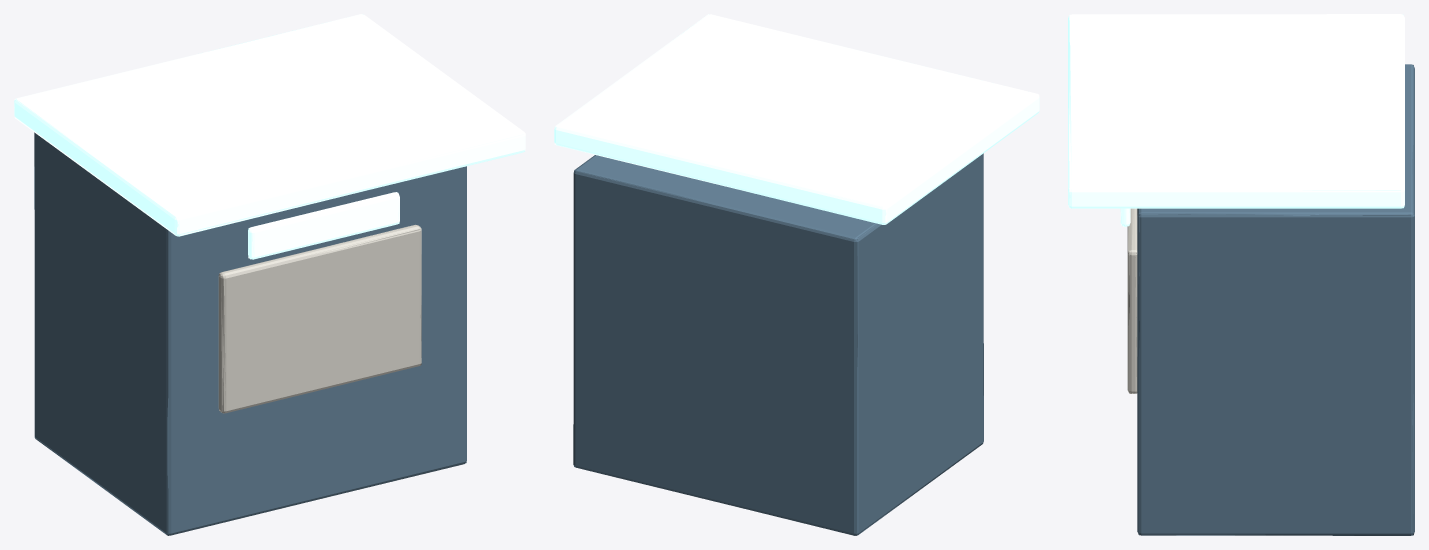
File: SM_Rheinufer_Kiosk.fbx
The picture shows the model from 3 angles, left to right: view 1: azimuth 30°, elevation 25°; view 2: azimuth 150°, elevation 25°; view 3: azimuth 270°, elevation 25°; orthographic projection. The views are drawn at different scales.
Visible parts, largest first — view 1: LOD0_SM_Rheinufer_Kiosk, LOD1_SM_Rheinufer_Kiosk; view 2: LOD0_SM_Rheinufer_Kiosk, LOD1_SM_Rheinufer_Kiosk; view 3: LOD0_SM_Rheinufer_Kiosk, LOD1_SM_Rheinufer_Kiosk, LOD2_SM_Rheinufer_Kiosk.
Part boxes in pixels (bbox=[...]): LOD0_SM_Rheinufer_Kiosk: bbox=[14, 14, 525, 535]; LOD1_SM_Rheinufer_Kiosk: bbox=[14, 14, 525, 534]; LOD0_SM_Rheinufer_Kiosk: bbox=[554, 14, 1039, 535]; LOD1_SM_Rheinufer_Kiosk: bbox=[554, 31, 1039, 535]; LOD0_SM_Rheinufer_Kiosk: bbox=[1068, 14, 1414, 535]; LOD1_SM_Rheinufer_Kiosk: bbox=[1068, 14, 1414, 535]; LOD2_SM_Rheinufer_Kiosk: bbox=[1069, 14, 1413, 535].
Size of the model in its own units: 2.1 by 2.01 by 1.75.
